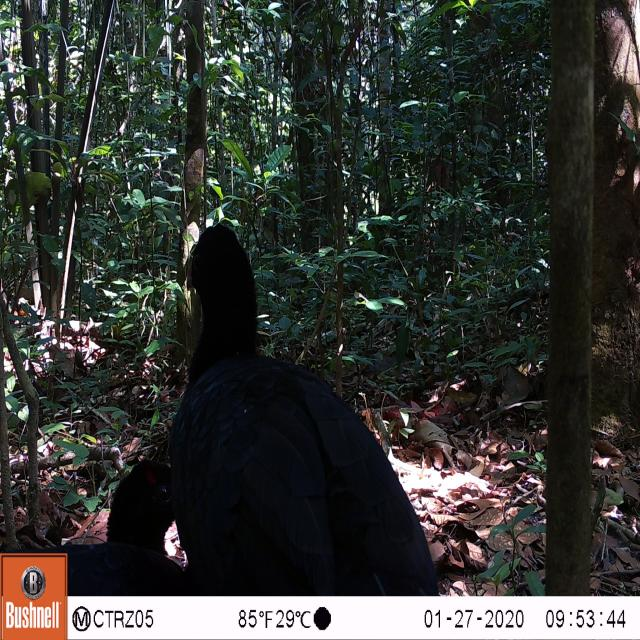Salvins Curassow: (172, 220, 445, 596), (1, 439, 191, 597)
